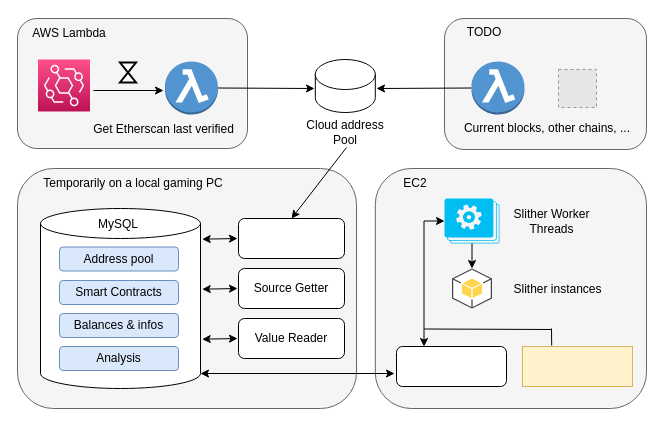
This 664x426 diagram has some shape labels left out. Grey dashed boxes stand in for pictures. Each missing label, with the box of its shape:
Buffer Downloader: (238, 218, 344, 258)
Custom detectors: (522, 346, 632, 386)
Slither Manager: (396, 346, 506, 386)
